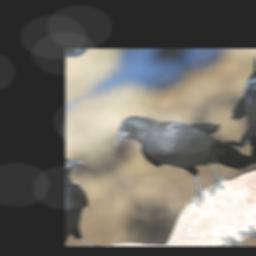Crow: (101, 79, 256, 223)
